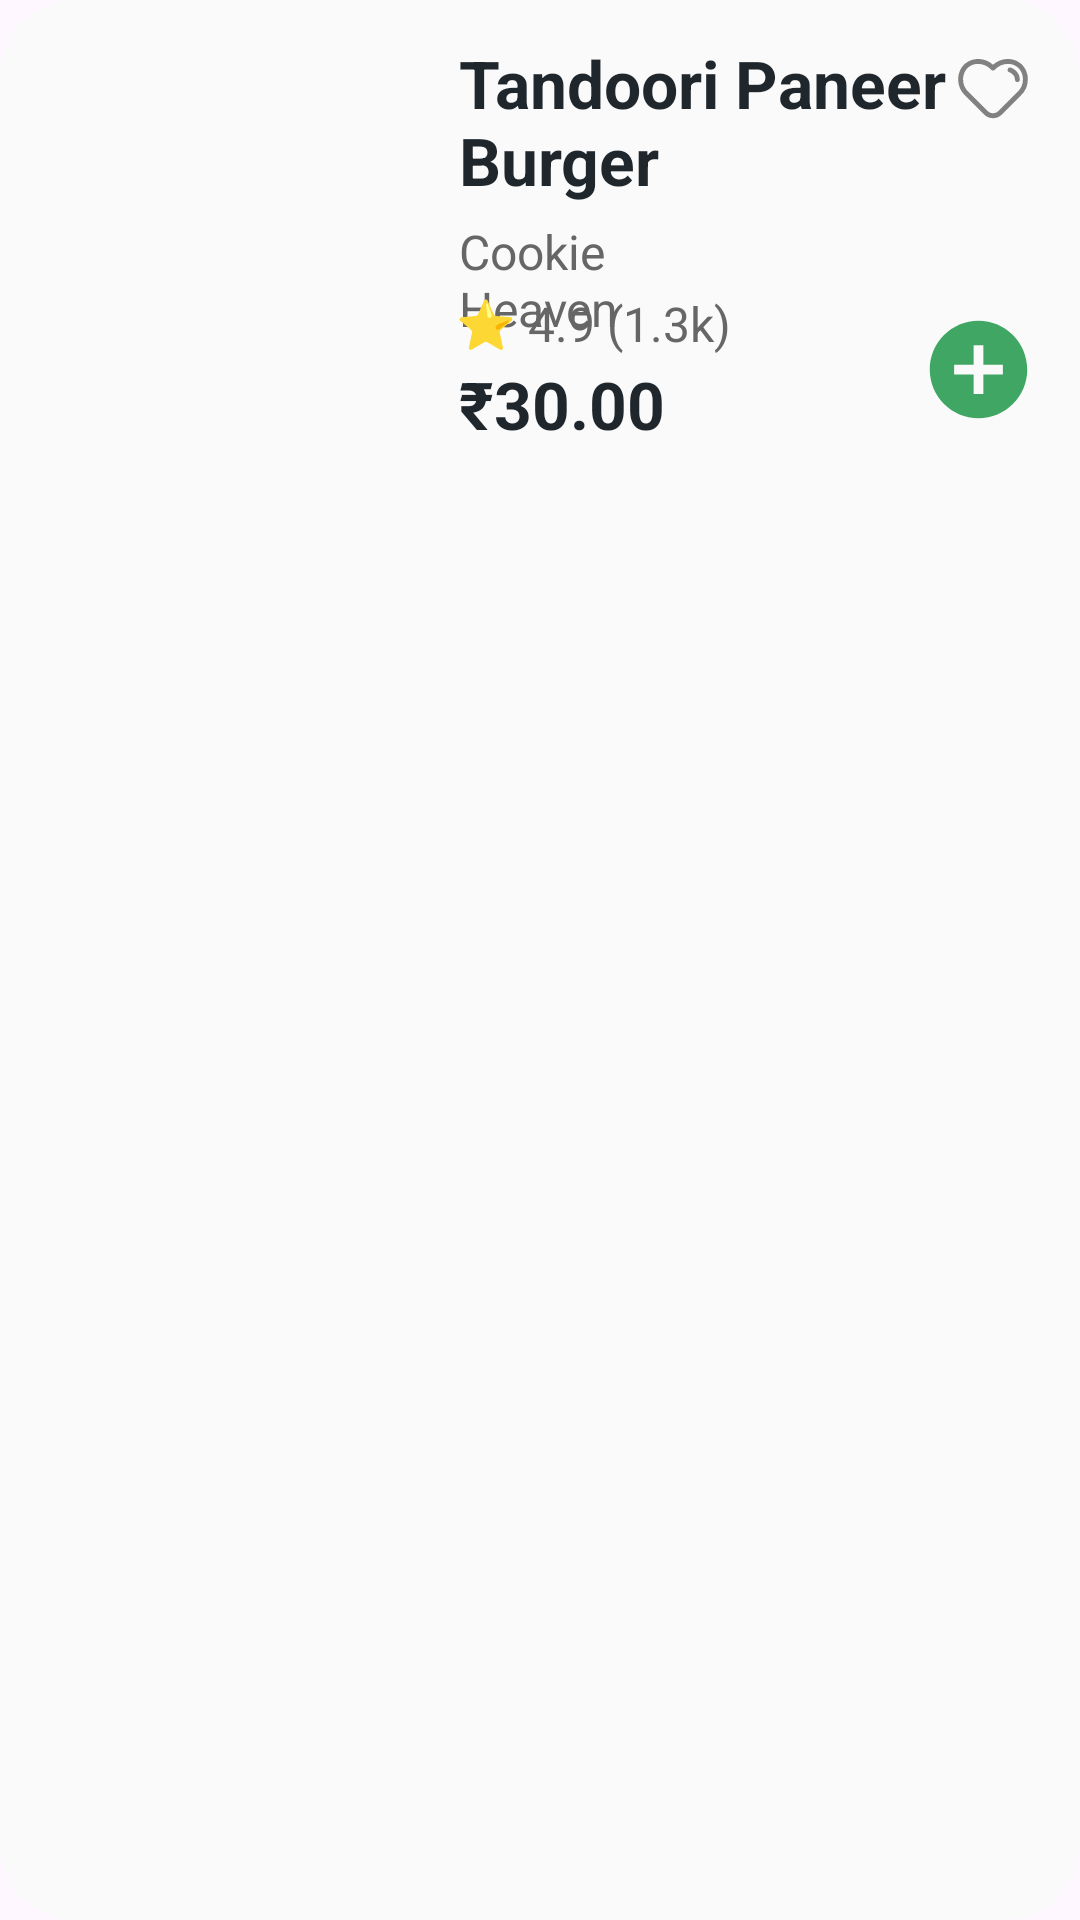

Where icons sit on this 1080w x 1920h app screen, as (x1, y1, x2, y2):
add circle: (929, 320, 1028, 419)
favorite border: (958, 59, 1028, 118)
